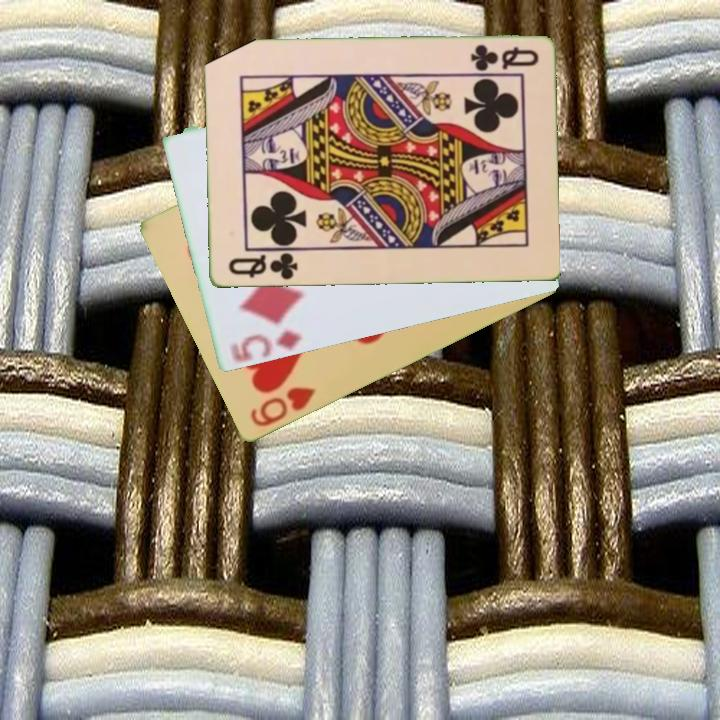5d: (226, 327, 305, 366)
6h: (246, 383, 318, 431)
Qc: (224, 249, 300, 283), (467, 41, 541, 73)
